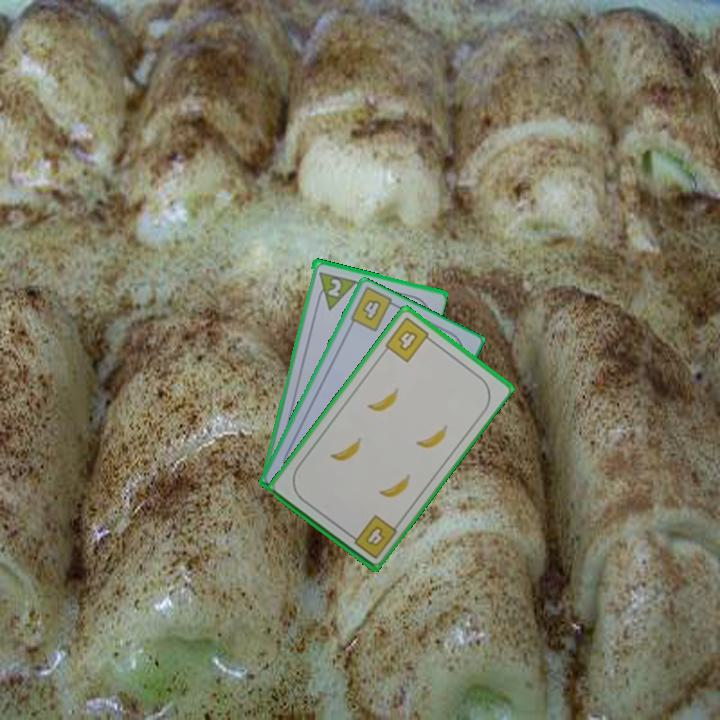2p: (324, 275, 344, 300)
4b: (381, 313, 437, 365), (344, 511, 400, 562), (358, 295, 384, 323)
